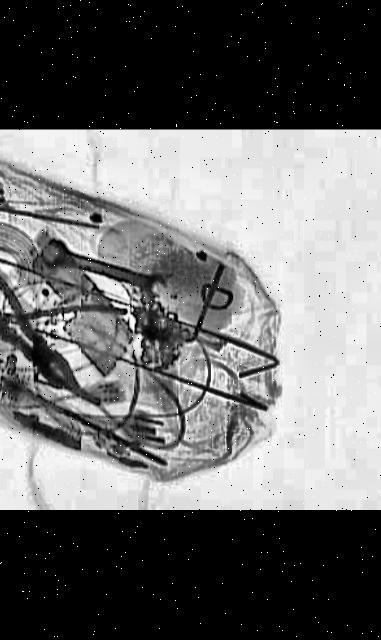Pliers: (0, 232, 98, 401), (0, 288, 138, 408)
Wrench: (32, 238, 175, 304)
